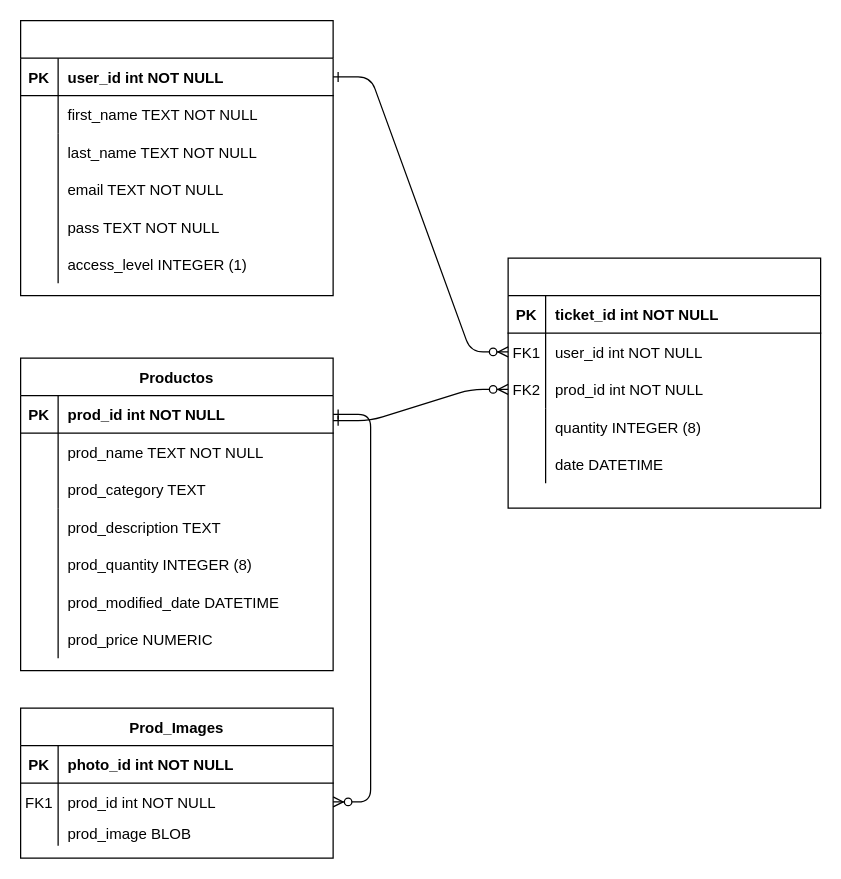
This 841x879 diagram has some shape labels left out. Each missing label, with the box of its shape:
Tickets: (507, 257, 821, 508)
Users: (19, 19, 333, 296)
